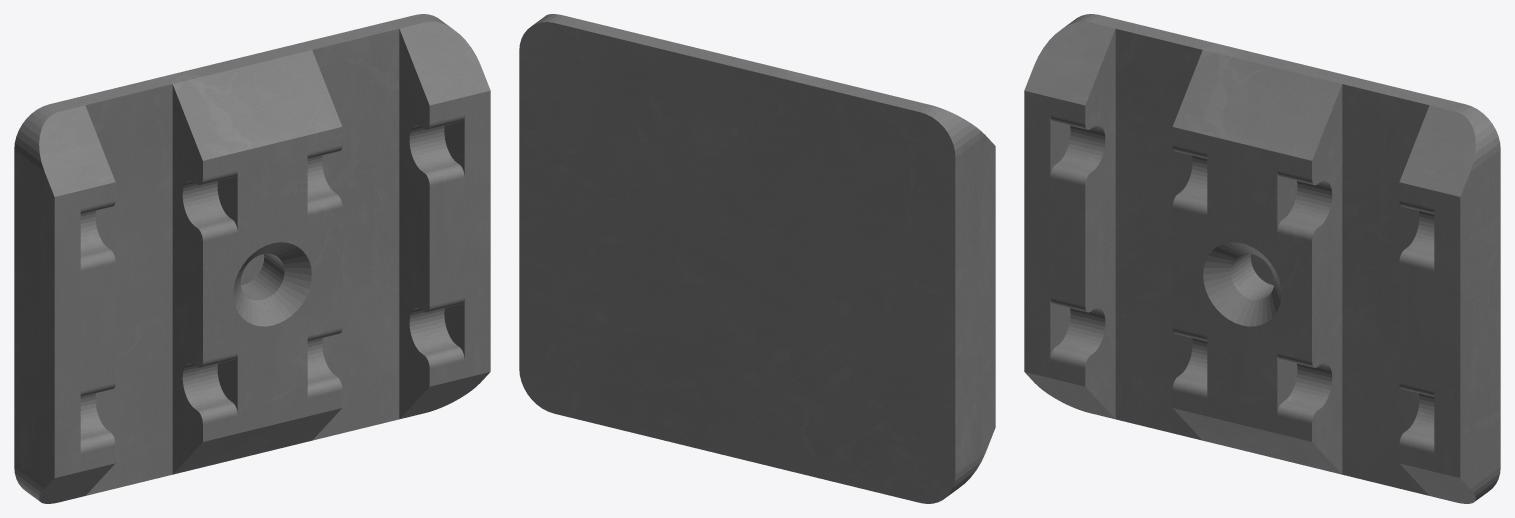
File: kit_tray_visual.glb
The picture shows the model from 3 angles, left to right: view 1: azimuth 30°, elevation 25°; view 2: azimuth 150°, elevation 25°; view 3: azimuth 330°, elevation 25°; orthographic projection.
Visible parts, largest first — view 1: kit_tray_visual (1); view 2: kit_tray_visual (1); view 3: kit_tray_visual (1).
Boxes of the visible parts, left/top/right/bottom form: kit_tray_visual (1): left=14, top=14, right=490, bottom=503; kit_tray_visual (1): left=519, top=14, right=995, bottom=503; kit_tray_visual (1): left=1024, top=14, right=1500, bottom=503.
Bounding box in the file's own units: 0.25 × 0.214 × 0.04.
1 material, 1 textured.
